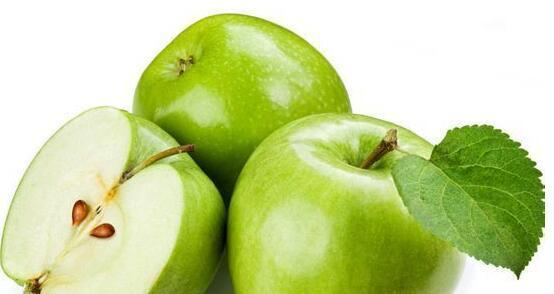apple: (1, 104, 226, 294), (231, 115, 466, 293), (133, 14, 353, 197)
